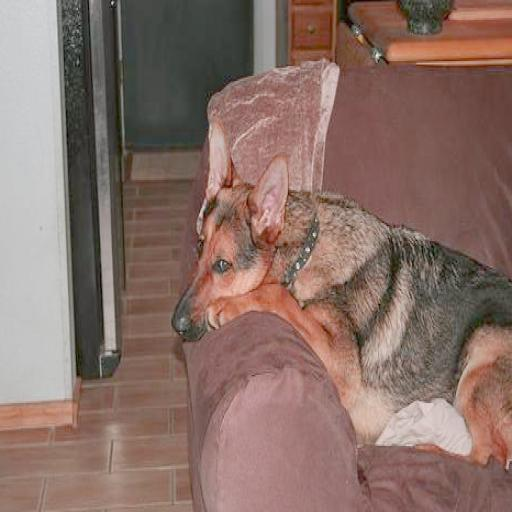dog_face: (174, 158, 291, 337)
